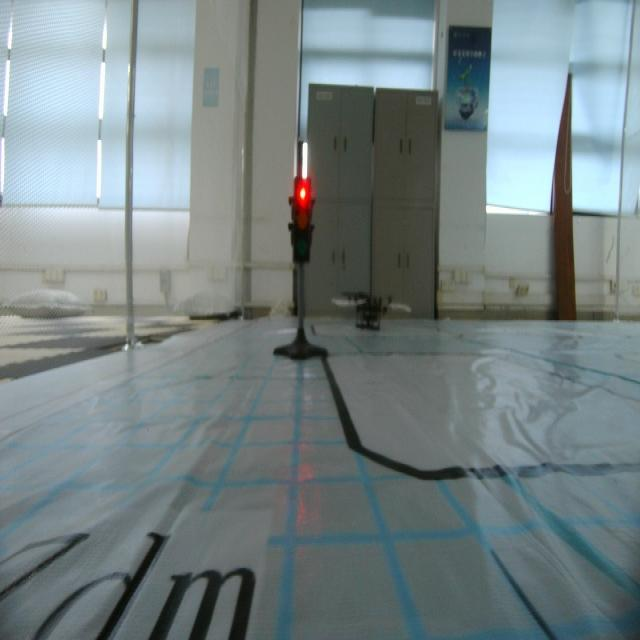red: (289, 173, 317, 268)
